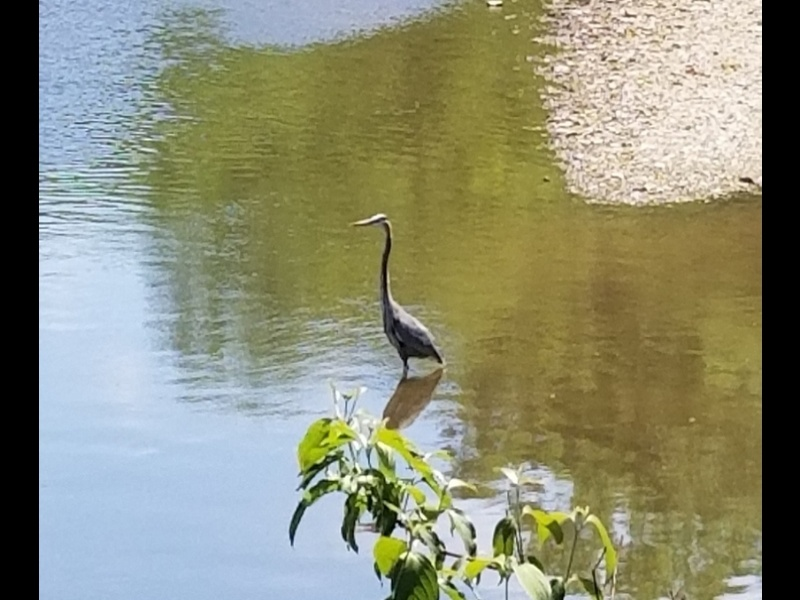heron: (344, 210, 445, 377)
